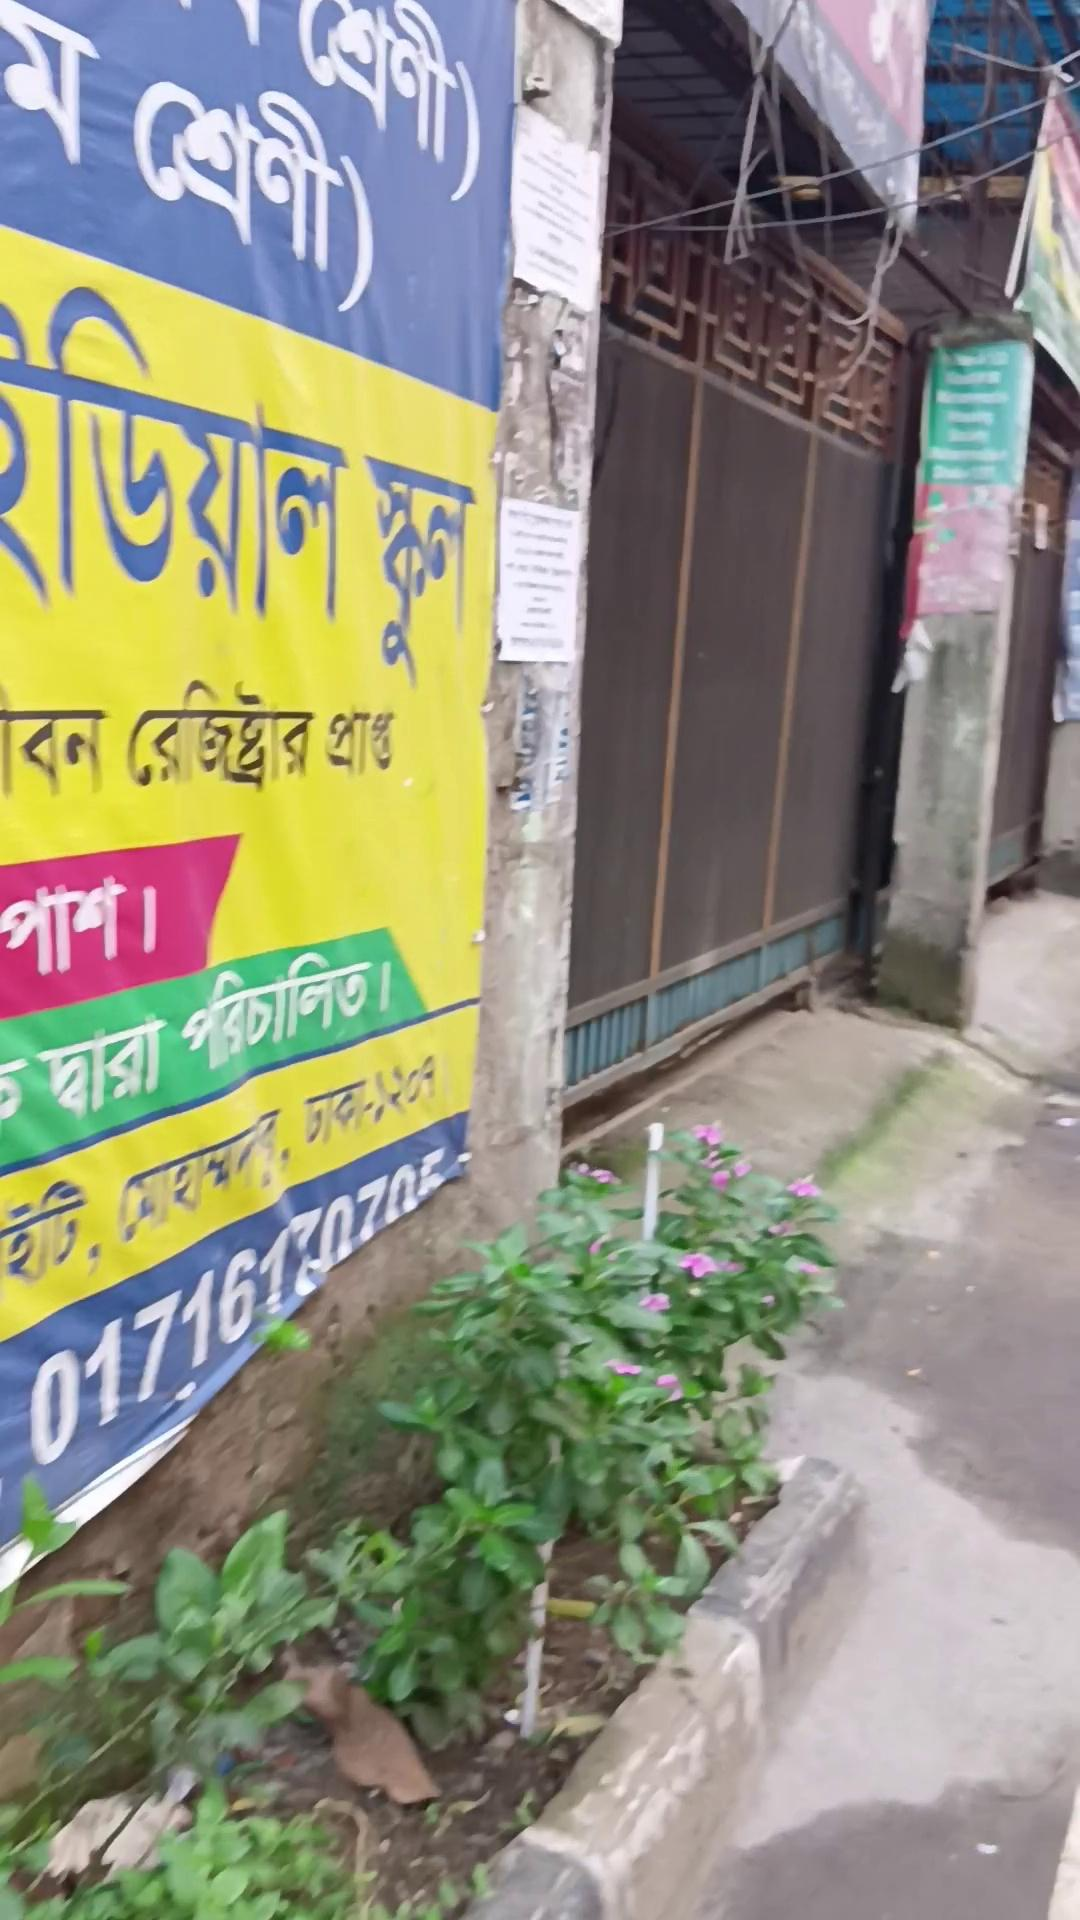Broken-road: (455, 1449, 869, 1917), (559, 895, 855, 1127)
Dog: (640, 1121, 665, 1244)
Fallen-tree: (313, 1116, 844, 1749)
Garbage: (456, 976, 1077, 1916)
Obstacle: (0, 0, 622, 1920)
